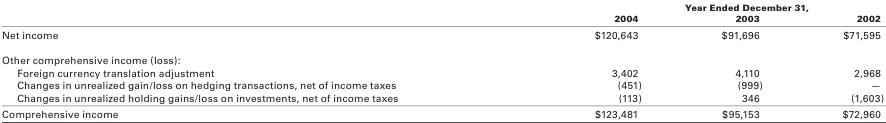table: (1, 1, 883, 119)
table column: (1, 1, 495, 119), (495, 1, 680, 119), (680, 1, 801, 119), (801, 1, 883, 119)
table column header: (1, 1, 883, 25)
table projected row header: (1, 46, 883, 65)
table row: (1, 25, 883, 46), (1, 46, 883, 65), (1, 91, 883, 105), (1, 105, 883, 119), (1, 12, 883, 25), (1, 65, 883, 78), (1, 78, 883, 91), (1, 1, 883, 12)
table spanning cell: (495, 1, 883, 12)
